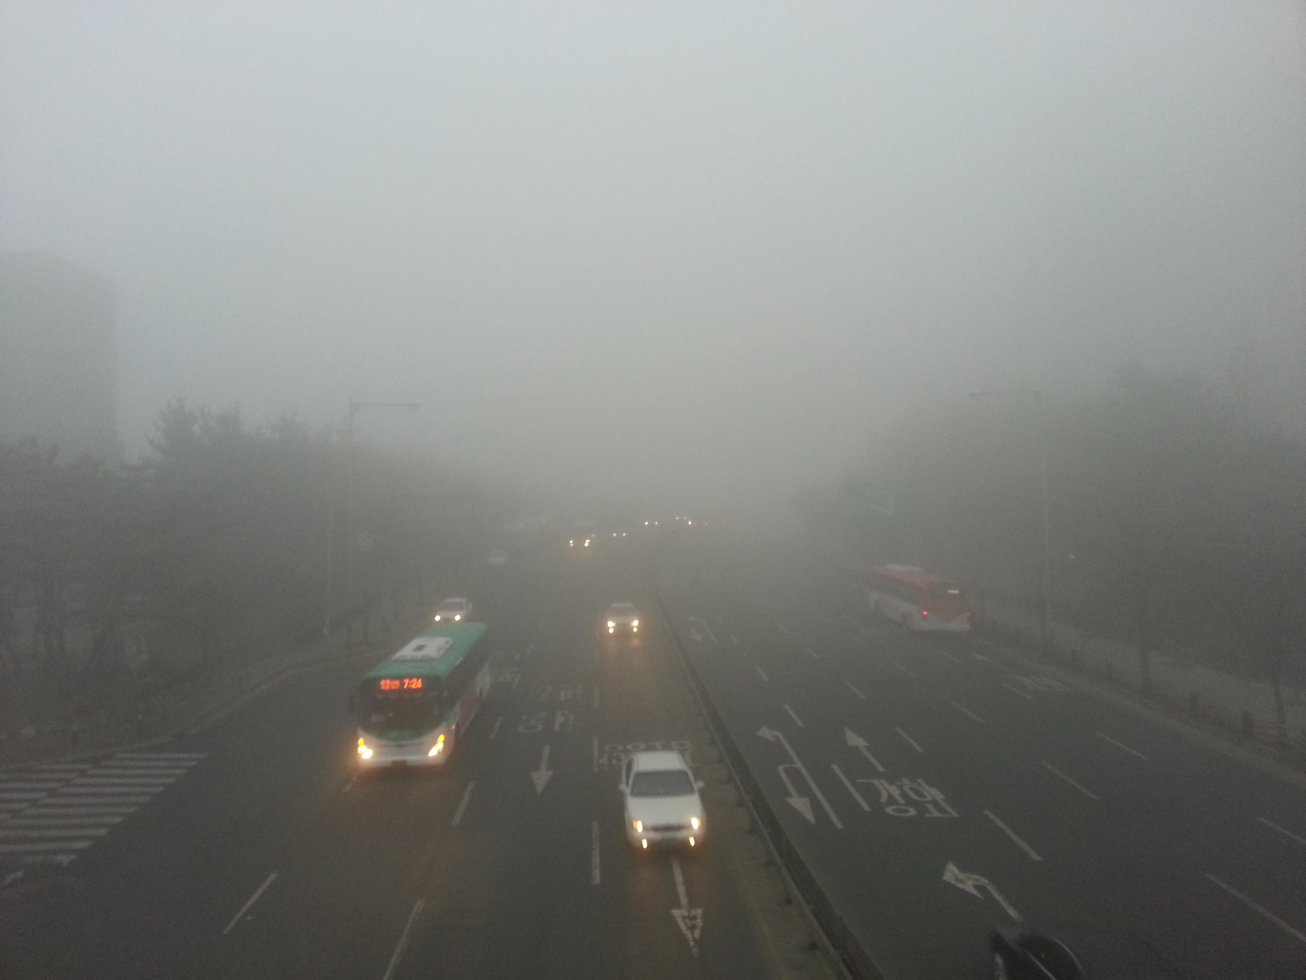bus: (350, 621, 494, 774), (862, 563, 973, 636)
car: (985, 916, 1185, 980), (615, 748, 710, 857), (603, 601, 644, 638), (433, 596, 474, 627), (485, 547, 509, 568)
